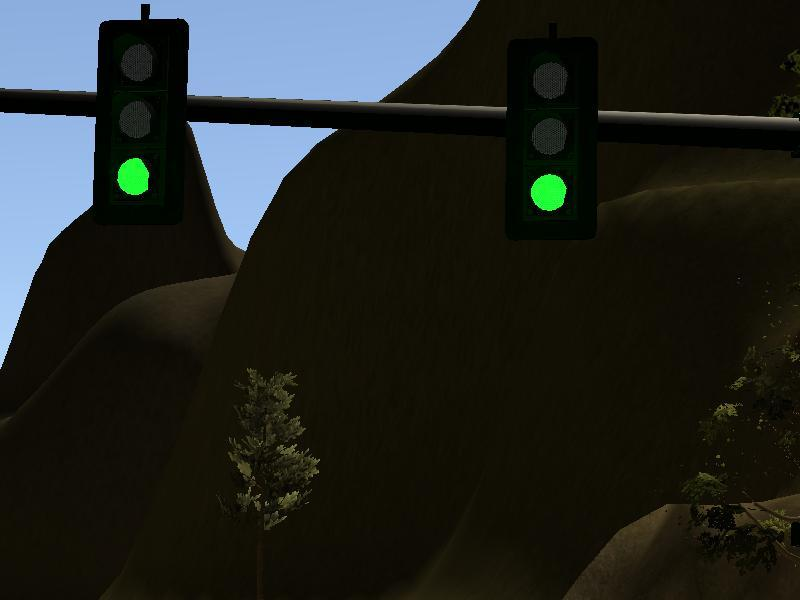Green: (94, 19, 189, 225), (505, 38, 599, 240)
